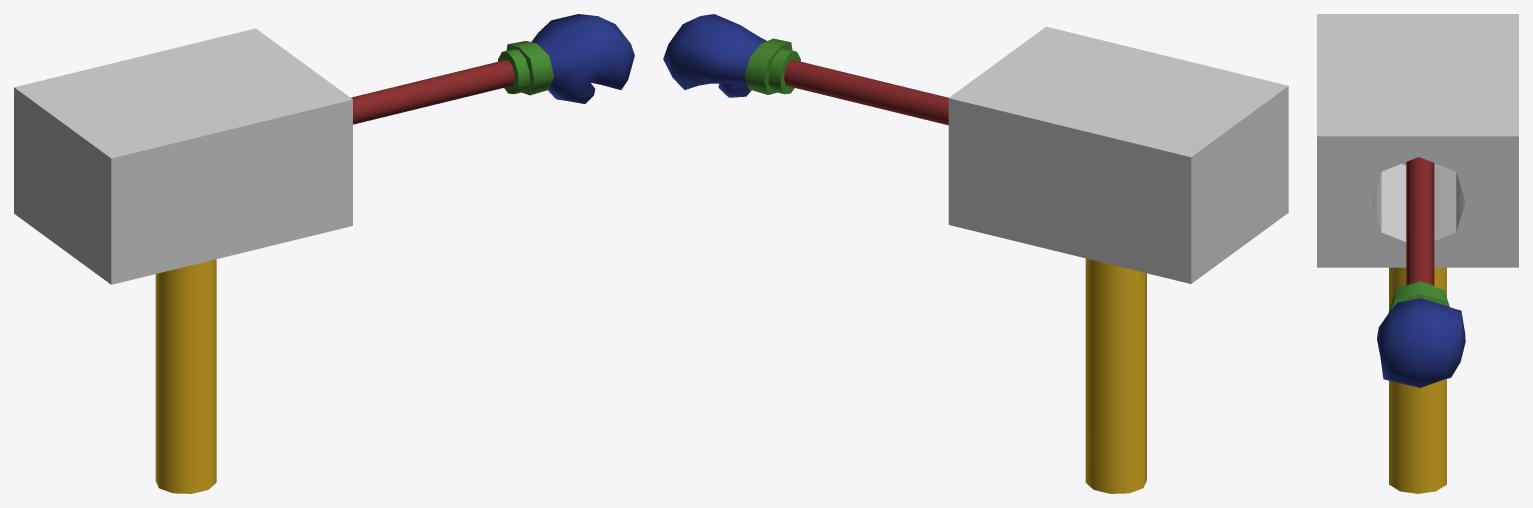
Rendered from Punch machine.fbx.
The picture shows the model from 3 angles, left to right: view 1: azimuth 30°, elevation 25°; view 2: azimuth 150°, elevation 25°; view 3: azimuth 270°, elevation 25°; orthographic projection. The views are drawn at different scales.
Visible parts, largest first — view 1: Boxing_glove, Basis, Boxing; view 2: Boxing_glove, Basis, Boxing; view 3: Boxing_glove, Boxing, Basis.
Part boxes in pixels (bbox=[...]): Boxing_glove: bbox=[14, 28, 352, 284]; Basis: bbox=[155, 259, 216, 493]; Boxing: bbox=[351, 14, 634, 124]; Boxing_glove: bbox=[948, 26, 1288, 283]; Basis: bbox=[1085, 258, 1146, 493]; Boxing: bbox=[663, 14, 948, 125]; Boxing_glove: bbox=[1317, 14, 1518, 267]; Boxing: bbox=[1377, 157, 1465, 387]; Basis: bbox=[1389, 267, 1446, 493].
Bounding box in the file's own units: 1012 × 662 × 300.
